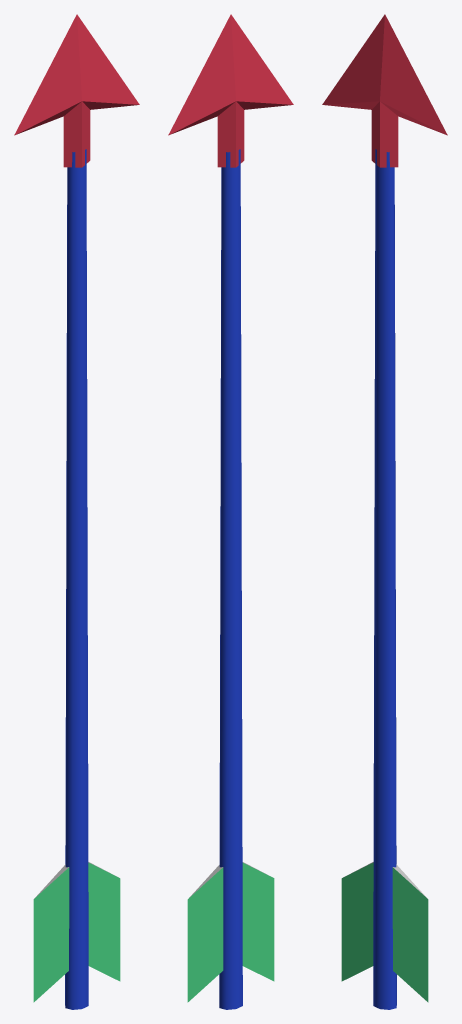
Rendered from MotaArrow.fbx.
3 renders of one model, left to right at view 1: azimuth 30°, elevation 25°; view 2: azimuth 210°, elevation 25°; view 3: azimuth 330°, elevation 25°, orthographic.
Visible parts, largest first — view 1: arrow; view 2: arrow; view 3: arrow.
Boxes of the visible parts, x1,y1,x2,y2 form: arrow: [14, 14, 139, 1009]; arrow: [168, 14, 293, 1009]; arrow: [322, 14, 447, 1009].
Bounding box in the file's own units: 7.7 × 57.95 × 1.1.
